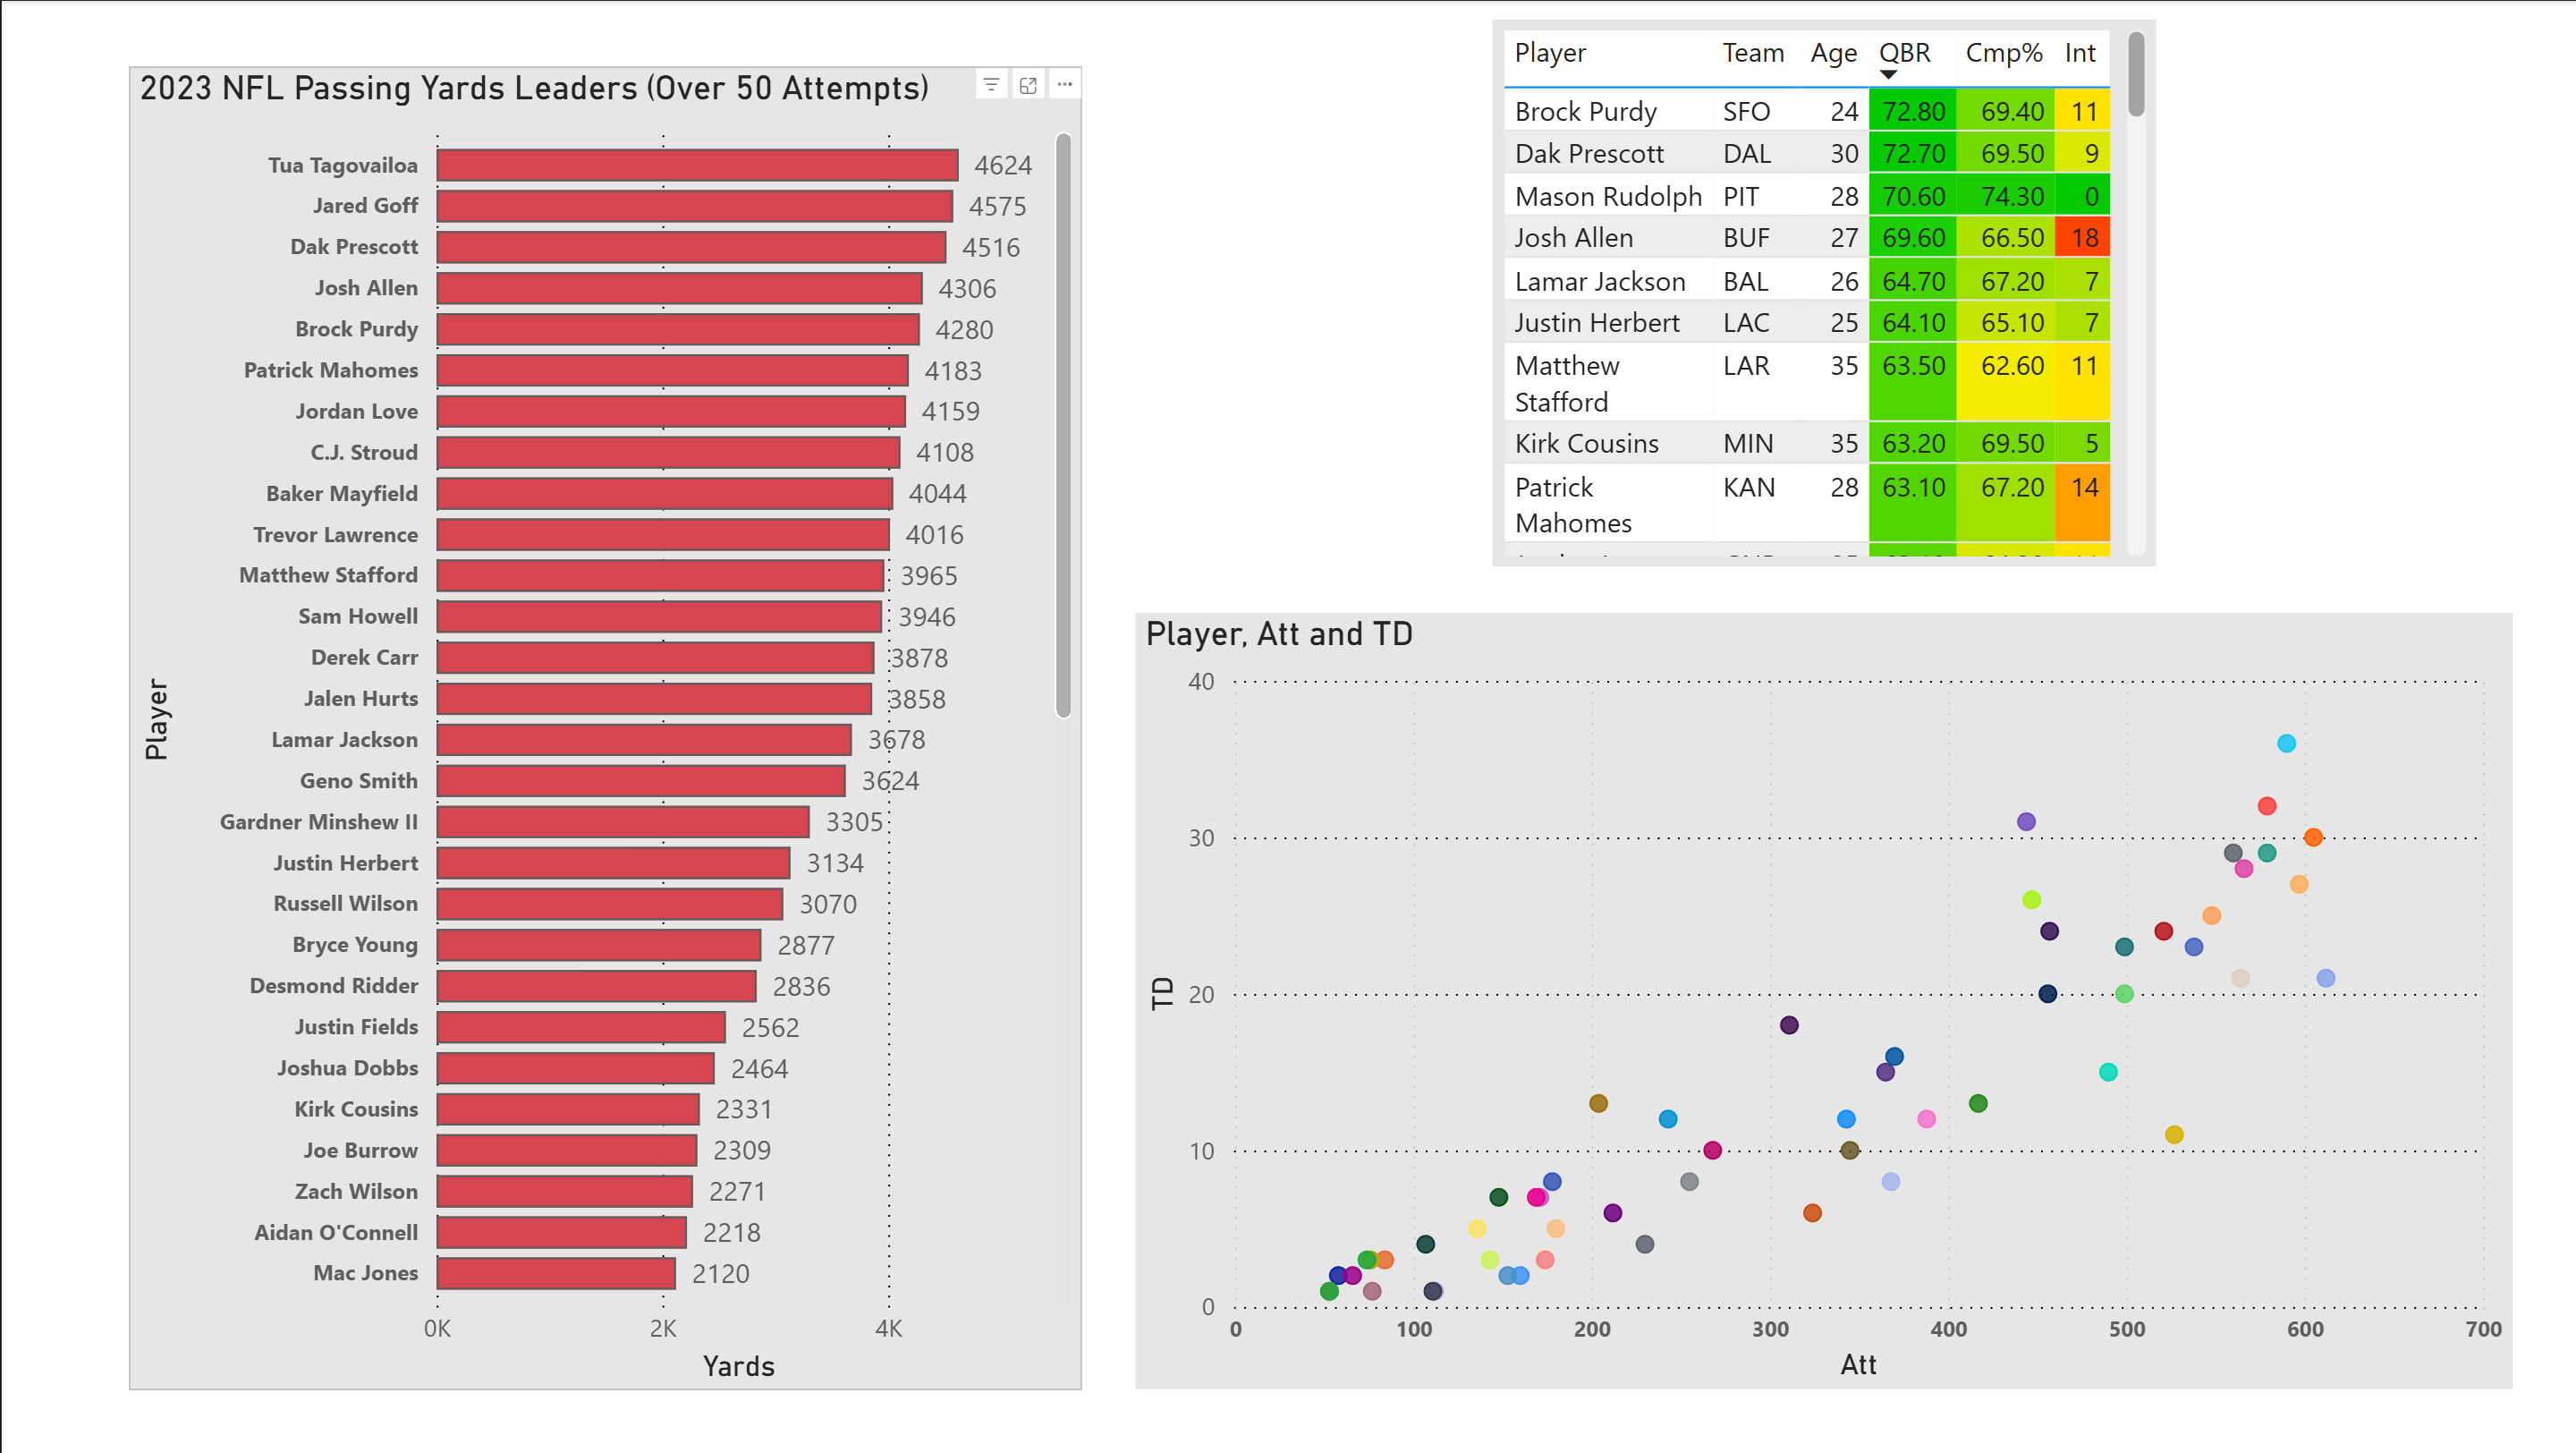

The dashboard page shown, as its layout file describes it:
{"tool":"powerbi","page":{"name":"Page 1","canvas":[1280,720],"ordinal":0},"visuals":[{"type":"barChart","title":"2023 NFL Passing Yards Leaders (Over 50 Attempts)","fields":{"Category":["nfl2023passingCSV.Player"],"Y":["nfl2023passingCSV.Yds"]},"box":[63.1,32.3,471.9,656.1],"z":0},{"type":"tableEx","title":"2023 NFL Top QBR Ratings (Over 50 Attempts)","fields":{"Values":["nfl2023passingCSV.Player","nfl2023passingCSV.Team","nfl2023passingCSV.Age","nfl2023passingCSV.QBR","nfl2023passingCSV.Cmp%","nfl2023passingCSV.Int"]},"box":[739.1,9.5,328.8,270.8],"z":1000},{"type":"scatterChart","fields":{"Series":["nfl2023passingCSV.Player"],"X":["nfl2023passingCSV.Att"],"Y":["nfl2023passingCSV.TD"]},"box":[562.2,303.1,682.6,384.6],"z":2000}]}

Visuals, with their boxes in screenshot pixels (x1, y1, x2, y2), scaled from the page's 1280x720 canvas onto the 2576x1453 screenshot:
"2023 NFL Passing Yards Leaders (Over 50 Attempts)" barChart: l=127, t=65, r=1077, b=1389
"2023 NFL Top QBR Ratings (Over 50 Attempts)" tableEx: l=1487, t=19, r=2149, b=565
scatterChart - nfl2023passingCSV.Player x nfl2023passingCSV.Att: l=1131, t=612, r=2505, b=1388
